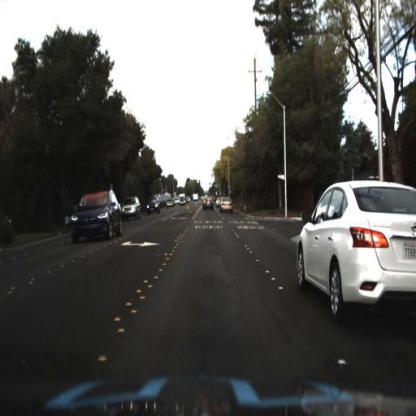car: (289, 172, 413, 335), (72, 191, 123, 246), (120, 197, 143, 223), (122, 195, 143, 223), (143, 196, 164, 220), (219, 194, 236, 217), (201, 194, 216, 214)
